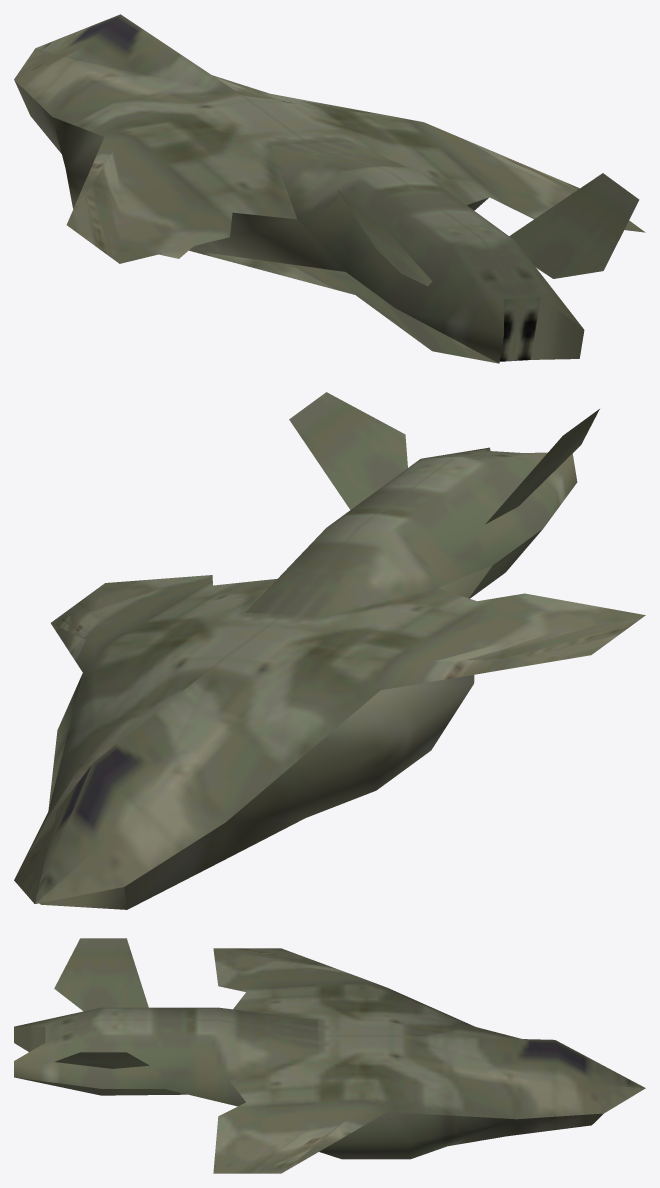
File: xxx.ico.obj
3 renders of one model, top to bottom at view 1: azimuth 30°, elevation 25°; view 2: azimuth 150°, elevation 25°; view 3: azimuth 270°, elevation 25°, orthographic. The views are drawn at different scales.
Bounding box in the file's own units: 2.77 × 1.15 × 4.52.
Materials: 1 (1 with a texture image).
